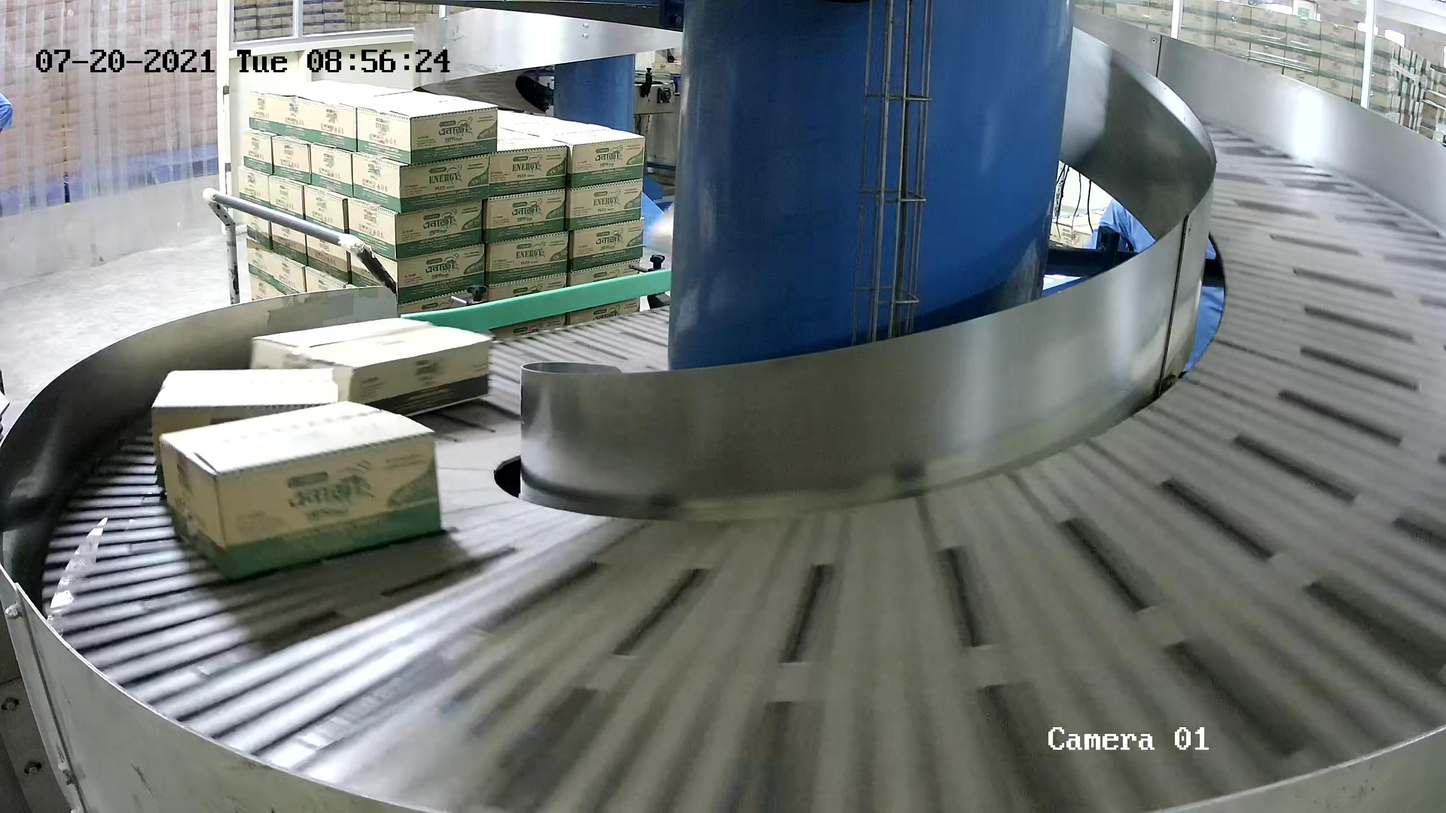Box: (159, 401, 445, 583), (249, 316, 493, 437)
